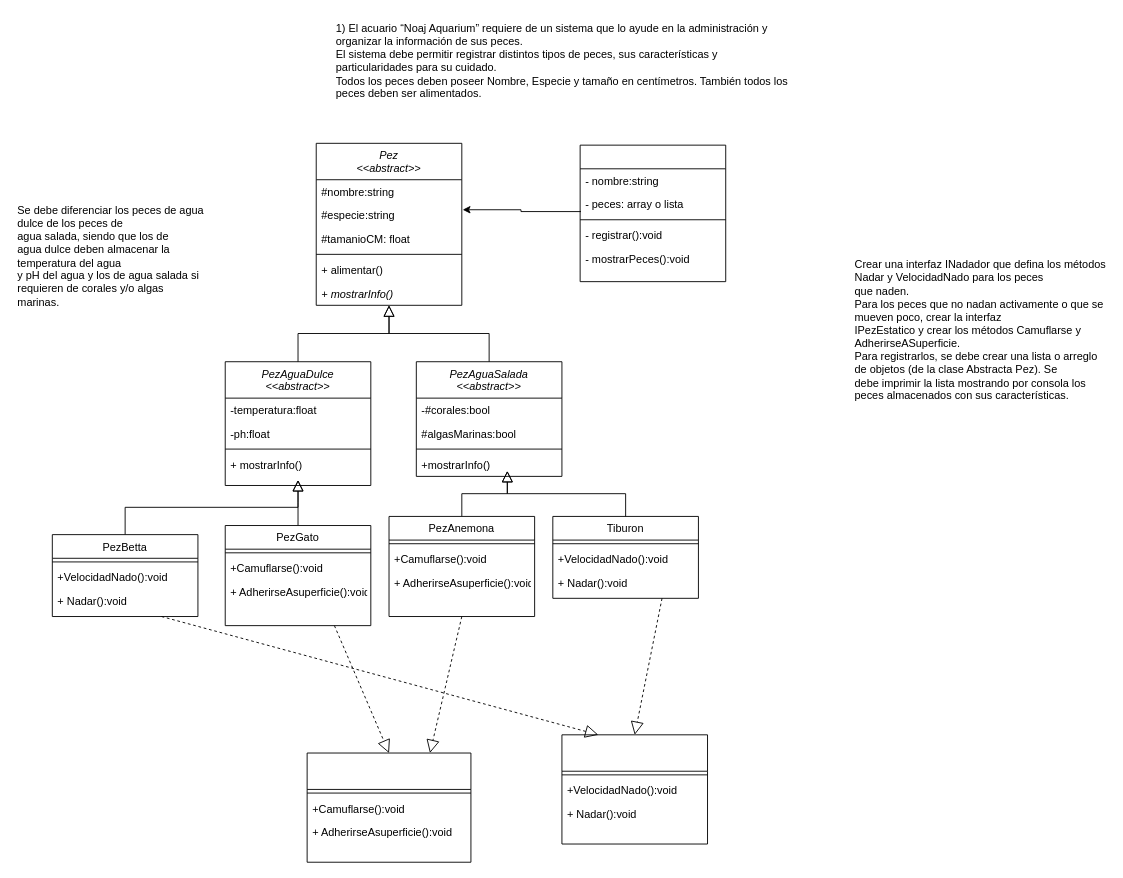
The diagram is 1123 pixels wide and 878 high, and some of its shapes have lost their labels. The box of each missing label's shape, as (x1, y1, x2, y2) in pixels:
Acuario: (579, 144, 726, 282)
«interface» INadador: (561, 734, 708, 844)
«interface» IPezEstatico: (306, 752, 471, 862)
